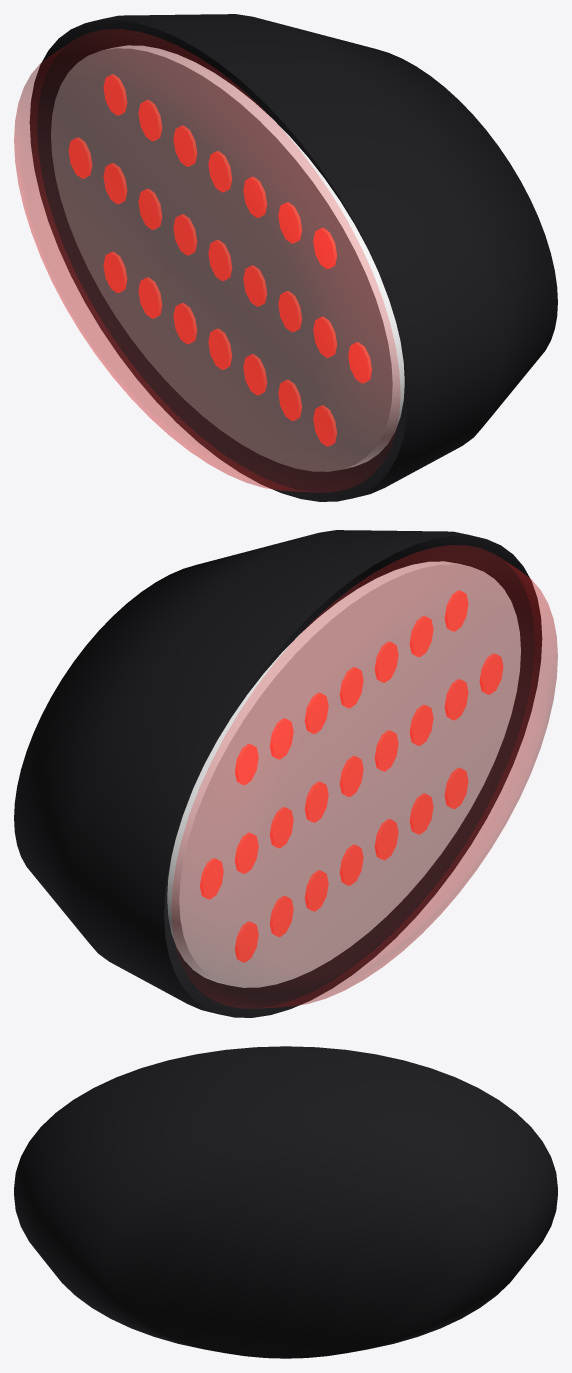
Rendered from oval.glb.
3 renders of one model, top to bottom at view 1: azimuth 30°, elevation 25°; view 2: azimuth 150°, elevation 25°; view 3: azimuth 270°, elevation 25°, orthographic. The views are drawn at different scales.
Visible parts, largest first — view 1: tail_light_oval; view 2: tail_light_oval; view 3: tail_light_oval.
Part boxes in pixels (x1=…): tail_light_oval: x1=14, y1=14, x2=557, y2=501; tail_light_oval: x1=14, y1=530, x2=557, y2=1017; tail_light_oval: x1=14, y1=1046, x2=557, y2=1358.
Bounding box in the file's own units: 0.044 × 0.0624 × 0.1082.
